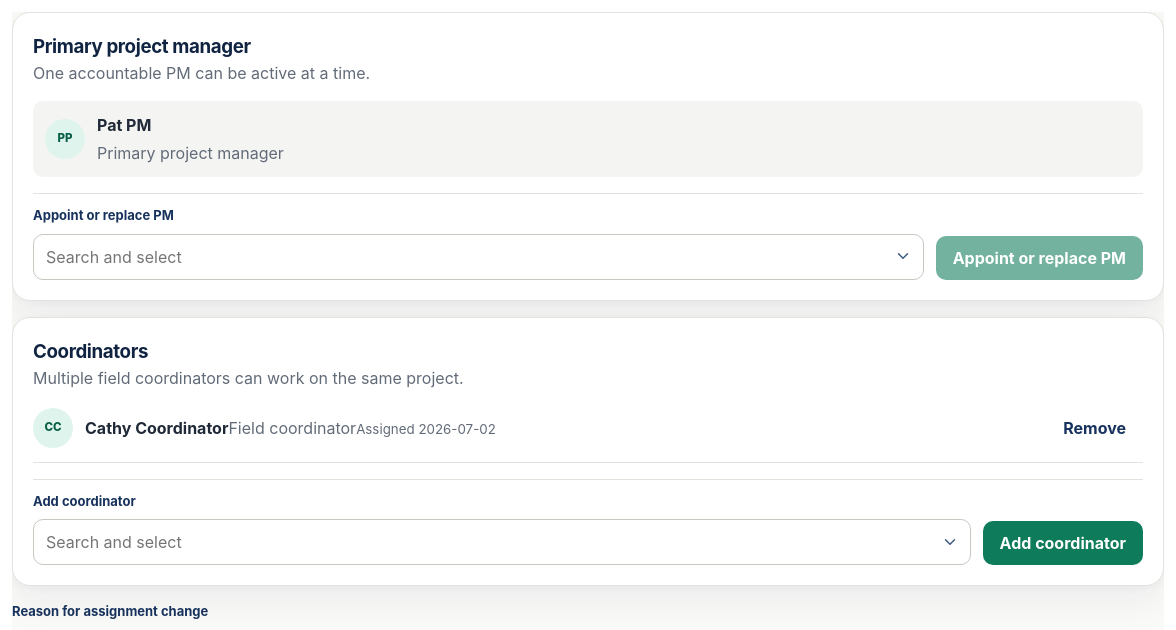
Scenario: ProjectTeamTab › requires a reason before opening an assignment action
Expected: the text "Pat PM" is shown, [97, 115, 151, 135]
Click the button "Add coordinator". click: (1063, 543)
box: [983, 521, 1143, 565]
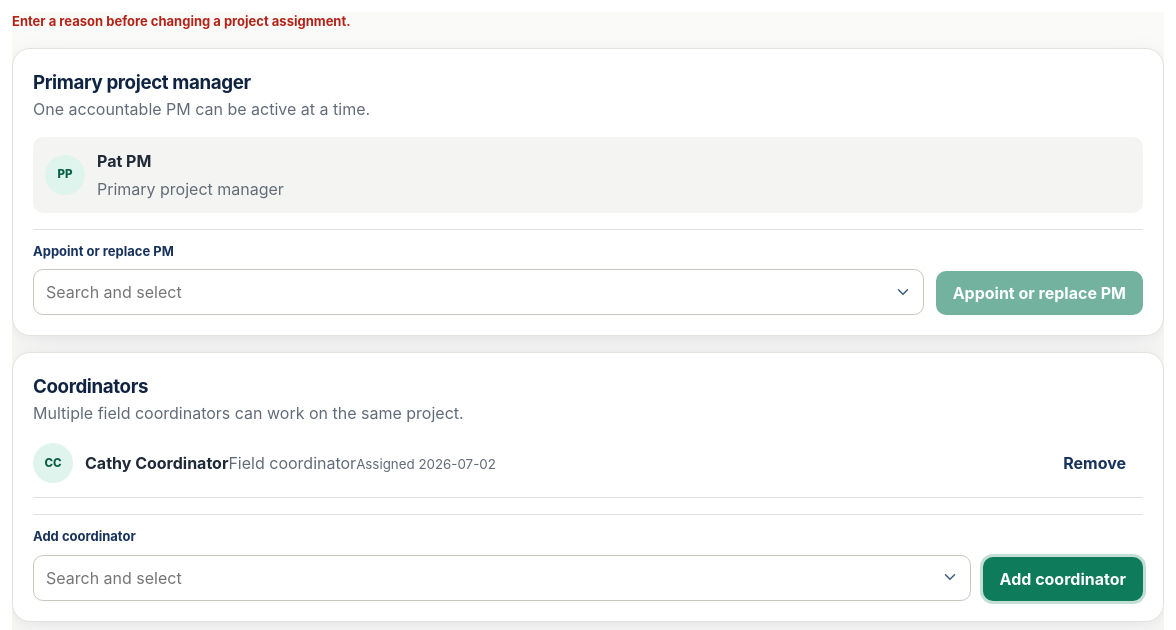
Expected: the message shows "reason", [12, 13, 351, 29]
